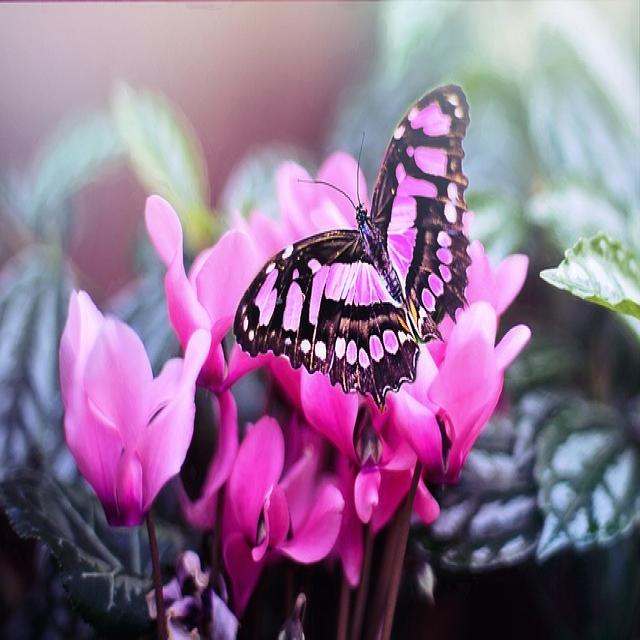butterfly: (235, 86, 470, 406)
